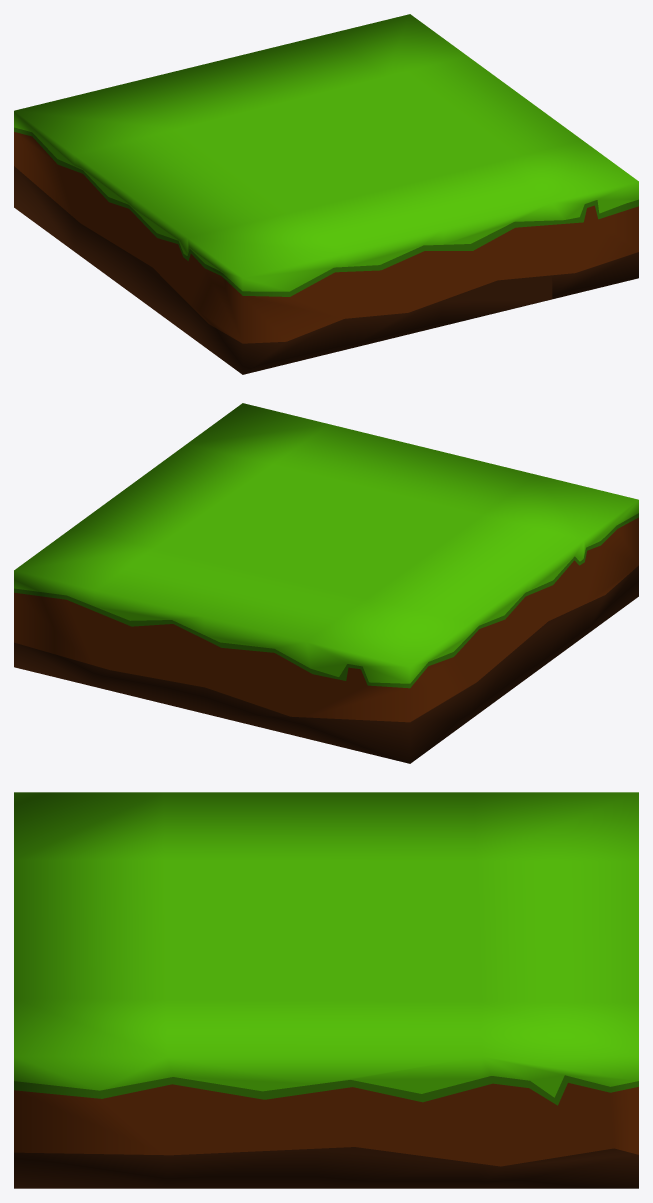
Rendered from HillBig.glb.
3 renders of one model, top to bottom at view 1: azimuth 30°, elevation 25°; view 2: azimuth 150°, elevation 25°; view 3: azimuth 270°, elevation 25°, orthographic. The views are drawn at different scales.
Parts seen in each view (by area): view 1: hill2; view 2: hill2; view 3: hill2.
Part boxes in pixels (x1,y1,x2,y2): hill2: [14, 14, 638, 374]; hill2: [14, 403, 638, 763]; hill2: [14, 792, 638, 1188].
Bounding box in the file's own units: 30 × 7 × 30.
1 material, 1 textured.
